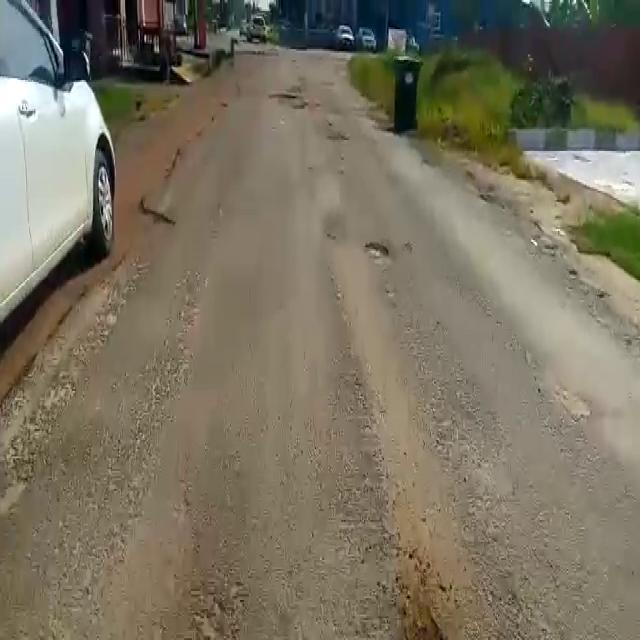pothole: (364, 238, 398, 265)
